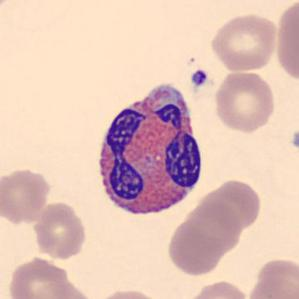Eosinophil: (89, 76, 208, 225)
Platelets: (189, 69, 210, 89), (289, 129, 299, 152)
RBC: (208, 11, 279, 73), (212, 68, 278, 134), (184, 195, 241, 260), (166, 217, 225, 277), (200, 176, 263, 232), (31, 200, 89, 260), (0, 165, 53, 225), (6, 255, 74, 299), (273, 0, 298, 84), (261, 259, 299, 299), (186, 278, 250, 299), (246, 275, 297, 299), (94, 287, 163, 299)
